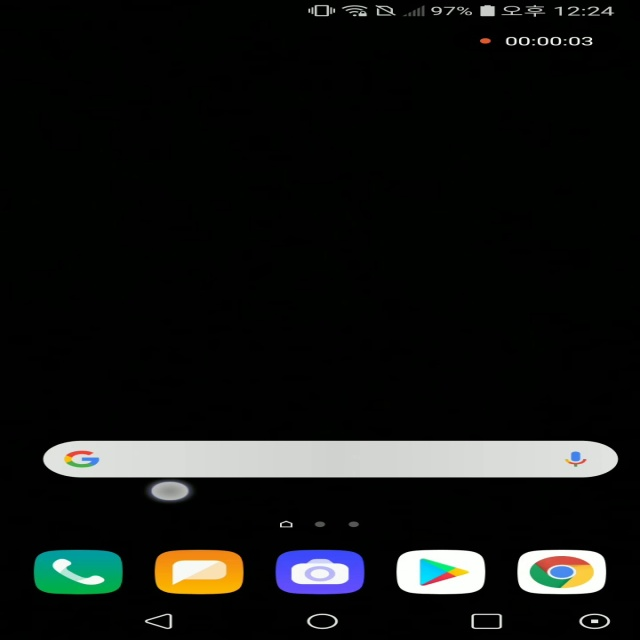Cursor: (149, 481, 193, 503)
